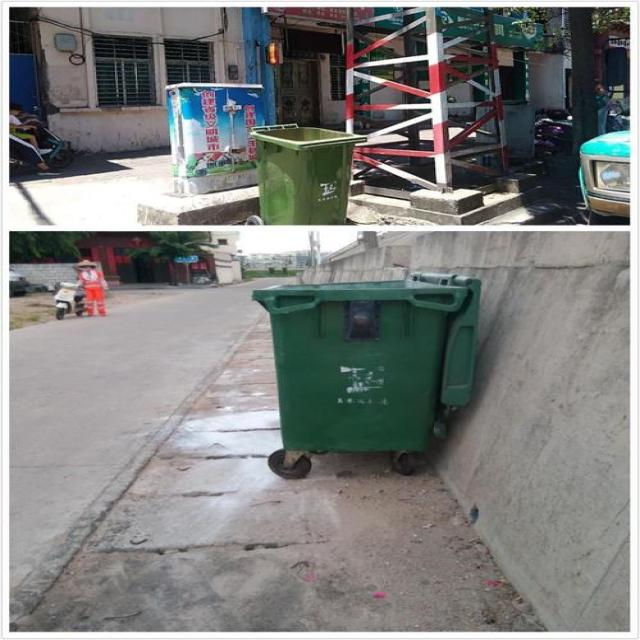garbage_bin: (252, 270, 480, 452), (247, 121, 367, 223)
